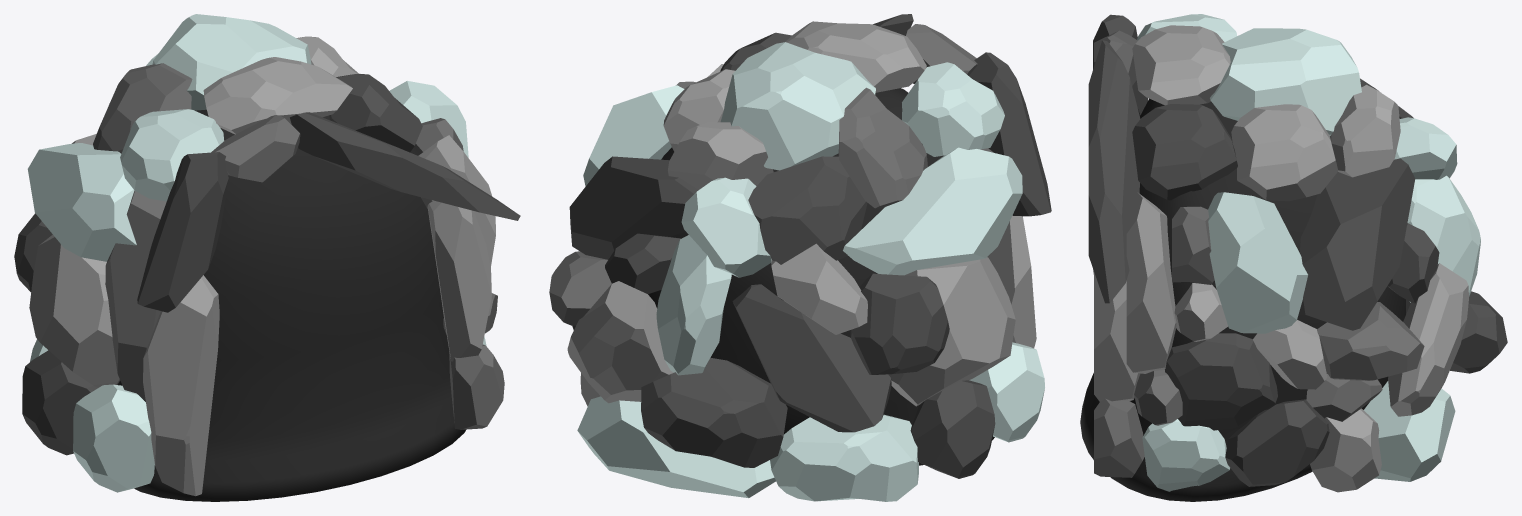
File: MinersHouse.fbx
3 views of the same model, side by side, from view 1: azimuth 30°, elevation 25°; view 2: azimuth 150°, elevation 25°; view 3: azimuth 270°, elevation 25° (orthographic). The views are drawn at different scales.
Visible parts, largest first — view 1: Miners house; view 2: Miners house; view 3: Miners house.
Boxes of the visible parts, x1=… form: Miners house: x1=14, y1=14, x2=520, y2=501; Miners house: x1=549, y1=14, x2=1051, y2=501; Miners house: x1=1080, y1=14, x2=1507, y2=501.
Size of the model in its own units: 104 by 94.6 by 92.84.
